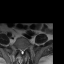CCS_normal: (21, 47, 23, 56)
LFS_normal: (24, 46, 26, 51)
LLS_normal: (23, 47, 24, 54)
RFS_normal: (18, 46, 20, 52)
RLS_normal: (20, 48, 22, 54)
